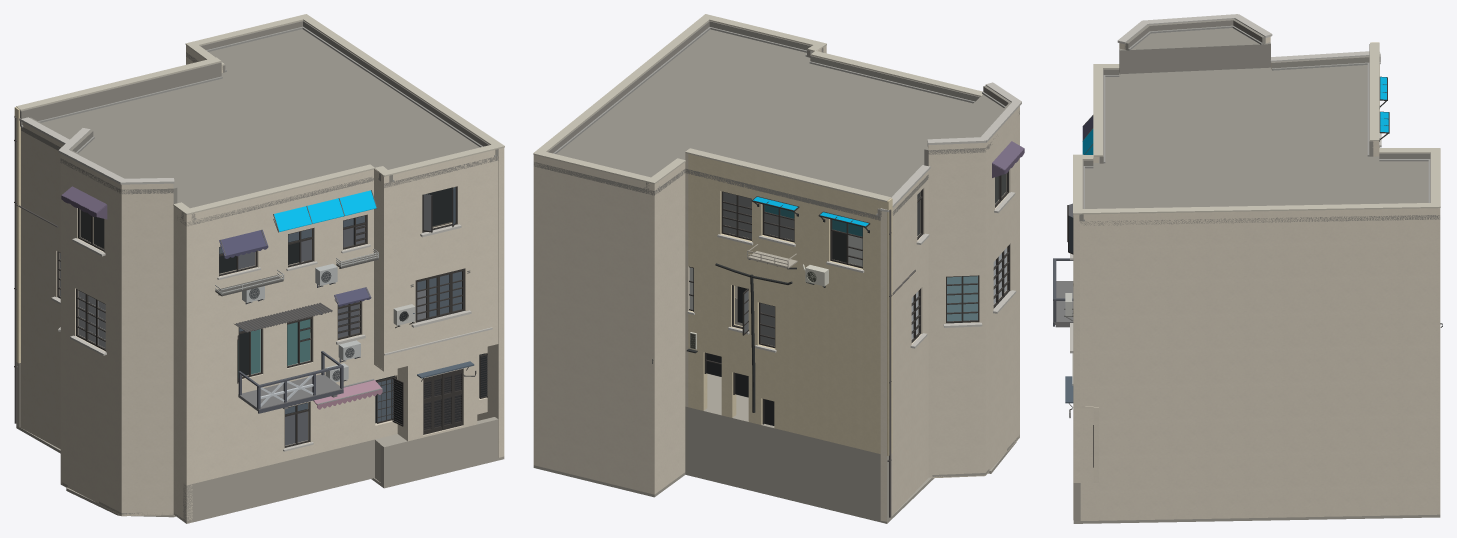
Rendered from xuhui-xiangyang-313-restored-courtyard-fronts.fbx.
3 renders of one model, left to right at view 1: azimuth 30°, elevation 25°; view 2: azimuth 150°, elevation 25°; view 3: azimuth 270°, elevation 25°, orthographic.
Parts seen in each view (by area): view 1: courtyard shell / main flat concrete slab, south court / recessed window wall/masonry with se a87f7ff31, restored projecting court wall/continuous wall wit 504826953, western folded facade / edge 6/continuous-open-wall, western folded facade / edge 7/continuous-open-wall, western folded facade / edge 9/continuous-open-wall, courtyard shell / lower southern recessed base, courtyard shell / west end of projected southern wall, courtyard shell / lower southern projecting base, courtyard shell / long east wall, courtyard shell / p10–p00 inner parapet, projecting bay/east return/continuous-open-wall (+27 smaller); view 2: view 2 | perforated yellow wall, courtyard shell / main flat concrete slab, courtyard shell / north wing end wall, western folded facade / edge 8/continuous-open-wall, courtyard shell / northern window wall below photographed pa, western folded facade / edge 9/continuous-open-wall, courtyard shell / north wing recessed link, western folded facade / edge 7/continuous-open-wall, courtyard shell / folded ground-bearing slab, courtyard shell / p02–p03 coping, courtyard shell / raised western bay flat deck, courtyard shell / p10–p00 coping (+15 smaller); view 3: courtyard shell / long east wall, courtyard shell / main flat concrete slab, courtyard shell / west roof vertical change of level, courtyard shell / east parapet, courtyard shell / p02–p03 coping, courtyard shell / raised western bay flat deck, restored projecting court wall/continuous wall wit 504826953, courtyard shell / folded ground-bearing slab, courtyard shell / p10–p00 coping, courtyard shell / p05–s06 coping, courtyard shell / p09–p10 inner parapet, courtyard shell / p07–p08 inner parapet (+6 smaller).
Boxes of the visible parts, box(x1,y1,x2,y2) form: courtyard shell / main flat concrete slab: box(21, 29, 498, 226); south court / recessed window wall/masonry with se a87f7ff31: box(184, 169, 373, 485); restored projecting court wall/continuous wall wit 504826953: box(383, 150, 498, 440); western folded facade / edge 6/continuous-open-wall: box(121, 183, 173, 516); western folded facade / edge 7/continuous-open-wall: box(60, 154, 121, 515); western folded facade / edge 9/continuous-open-wall: box(20, 122, 63, 448); courtyard shell / lower southern recessed base: box(183, 439, 374, 523); courtyard shell / west end of projected southern wall: box(173, 206, 192, 523); courtyard shell / lower southern projecting base: box(380, 417, 498, 485); courtyard shell / long east wall: box(304, 156, 504, 457); courtyard shell / p10–p00 inner parapet: box(20, 62, 221, 126); projecting bay/east return/continuous-open-wall: box(374, 168, 386, 370); view 2 | perforated yellow wall: box(688, 154, 892, 455); courtyard shell / main flat concrete slab: box(533, 29, 972, 220); courtyard shell / north wing end wall: box(533, 155, 657, 494); western folded facade / edge 8/continuous-open-wall: box(928, 143, 985, 478); courtyard shell / northern window wall below photographed pa: box(685, 406, 890, 520); western folded facade / edge 9/continuous-open-wall: box(880, 171, 928, 521); courtyard shell / north wing recessed link: box(648, 162, 685, 493); western folded facade / edge 7/continuous-open-wall: box(985, 106, 1019, 475); courtyard shell / folded ground-bearing slab: box(533, 373, 1016, 523); courtyard shell / p02–p03 coping: box(533, 14, 712, 154); courtyard shell / raised western bay flat deck: box(928, 96, 1019, 154); courtyard shell / p10–p00 coping: box(685, 148, 891, 202); courtyard shell / long east wall: box(1073, 216, 1440, 520); courtyard shell / main flat concrete slab: box(1080, 65, 1440, 225); courtyard shell / west roof vertical change of level: box(1119, 42, 1270, 74); courtyard shell / east parapet: box(1073, 208, 1440, 222); courtyard shell / p02–p03 coping: box(1073, 202, 1440, 214); courtyard shell / raised western bay flat deck: box(1133, 28, 1256, 47); restored projecting court wall/continuous wall wit 504826953: box(1073, 214, 1079, 407); courtyard shell / folded ground-bearing slab: box(1073, 514, 1440, 523); courtyard shell / p10–p00 coping: box(1370, 42, 1379, 140); courtyard shell / p05–s06 coping: box(1093, 64, 1102, 156); courtyard shell / p09–p10 inner parapet: box(1271, 55, 1380, 69); courtyard shell / p07–p08 inner parapet: box(1149, 19, 1235, 31).
Bounding box in the file's own units: 14.16 × 12.28 × 12.98.
42 materials, 2 textured.
